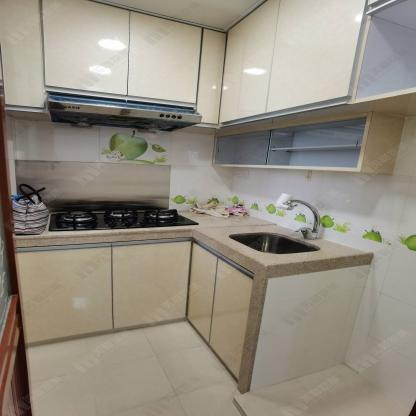Cupboard: (0, 4, 363, 126), (16, 237, 252, 381)
Exhaust Hood: (49, 93, 198, 131)
Faucet: (272, 191, 329, 243)
Sink: (235, 233, 319, 254)
Stove: (52, 210, 196, 229)
